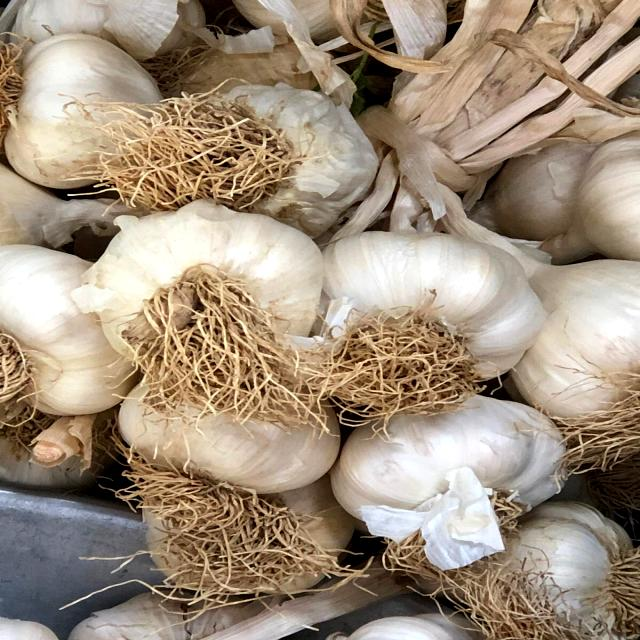garlic: (84, 203, 325, 411), (314, 218, 542, 417), (101, 76, 384, 228), (6, 33, 162, 188)
